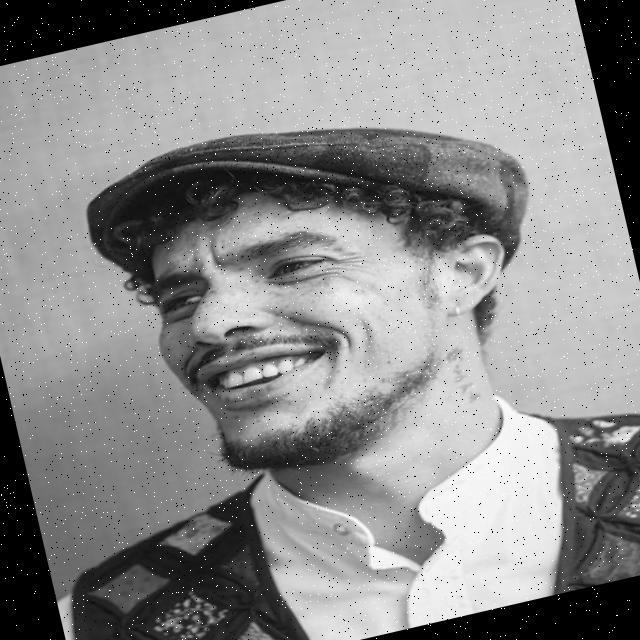Happiness: (130, 158, 473, 494)
